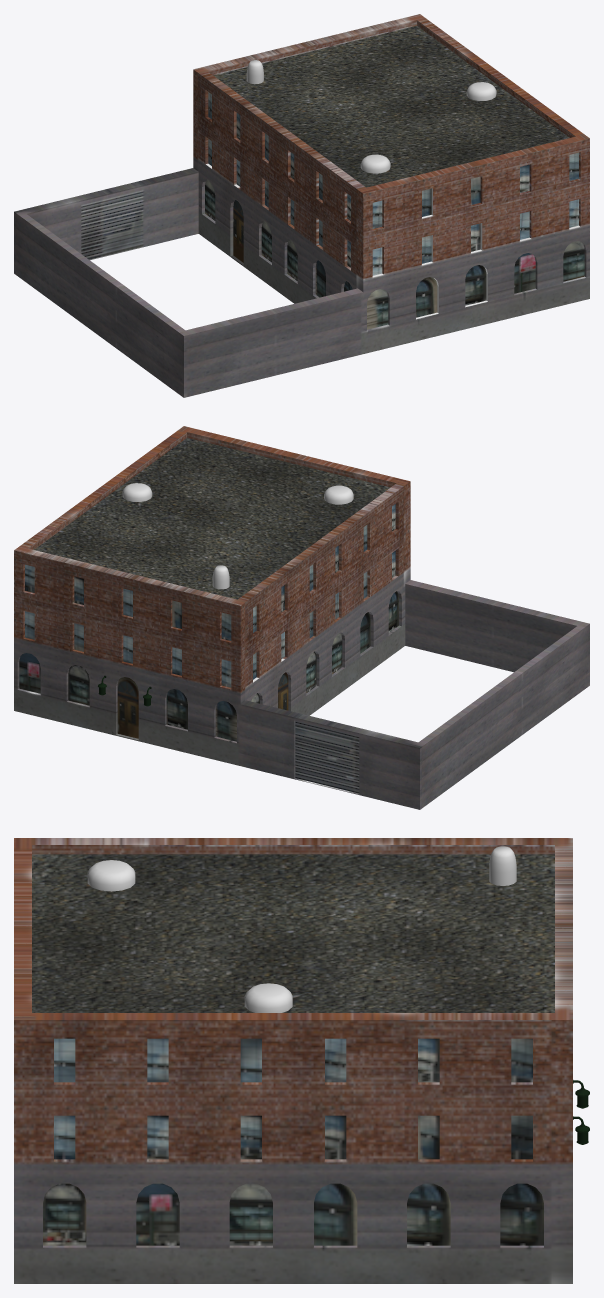
Rendered from PoliceStation.FBX.
The picture shows the model from 3 angles, top to bottom: view 1: azimuth 30°, elevation 25°; view 2: azimuth 150°, elevation 25°; view 3: azimuth 270°, elevation 25°; orthographic projection. The views are drawn at different scales.
Parts seen in each view (by area): view 1: PoliceStation; view 2: PoliceStation; view 3: PoliceStation.
Part boxes in pixels (box(x1,y1,x2,y2)): PoliceStation: box(14, 14, 589, 397); PoliceStation: box(14, 426, 589, 809); PoliceStation: box(14, 838, 589, 1283).
Bounding box in the file's own units: 42863 × 32022 × 17471.
Materials: 1 (1 with a texture image).
